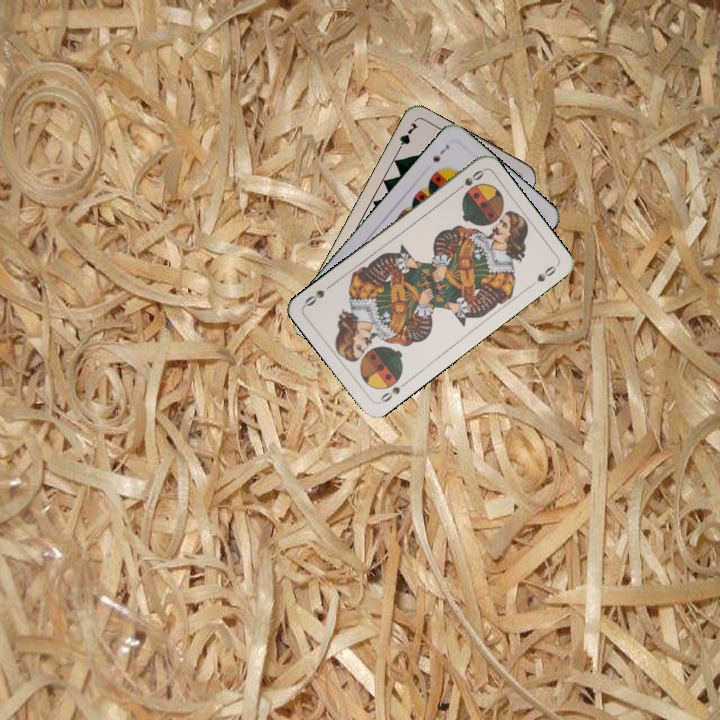G7: (393, 118, 421, 156)
S7: (429, 140, 452, 165)
SO: (451, 166, 487, 195), (375, 377, 410, 406)
